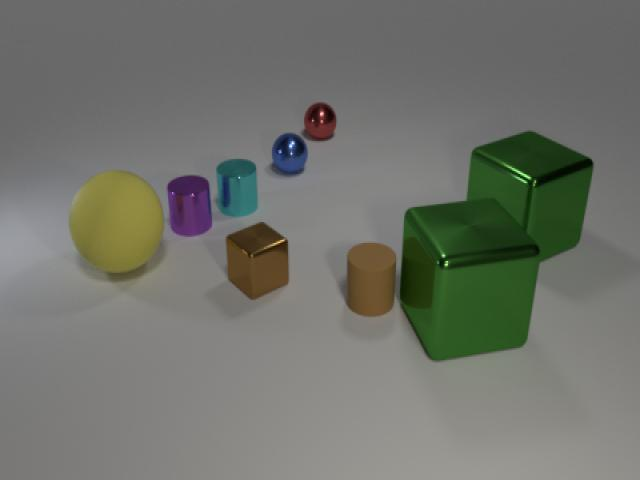cylinder: (342, 232, 401, 321), (164, 169, 217, 239), (213, 153, 263, 219)
round ball: (64, 162, 166, 279), (301, 96, 343, 144), (270, 128, 311, 176)
